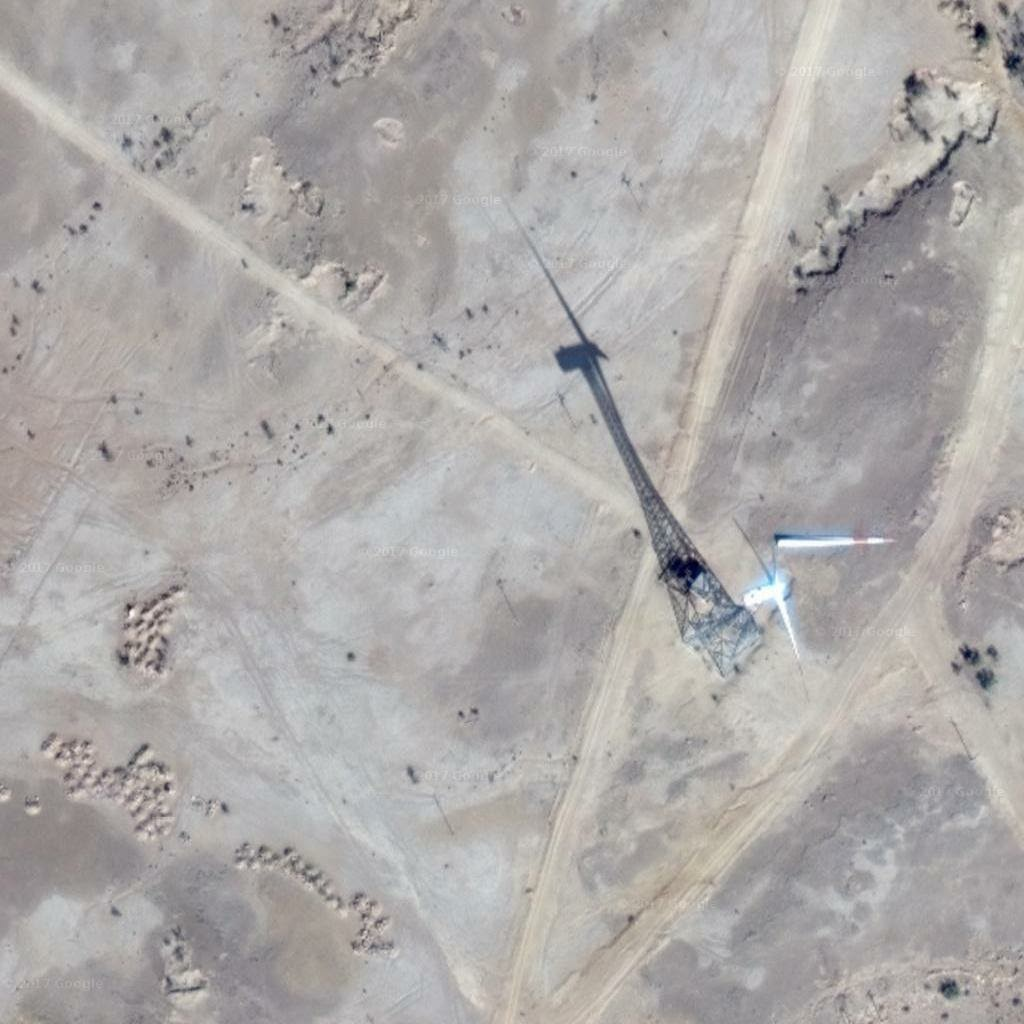Windmill: (505, 205, 745, 611)
